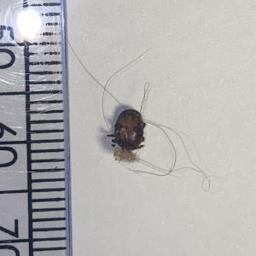Rhipicephalus sanguineus: (106, 109, 146, 151)
